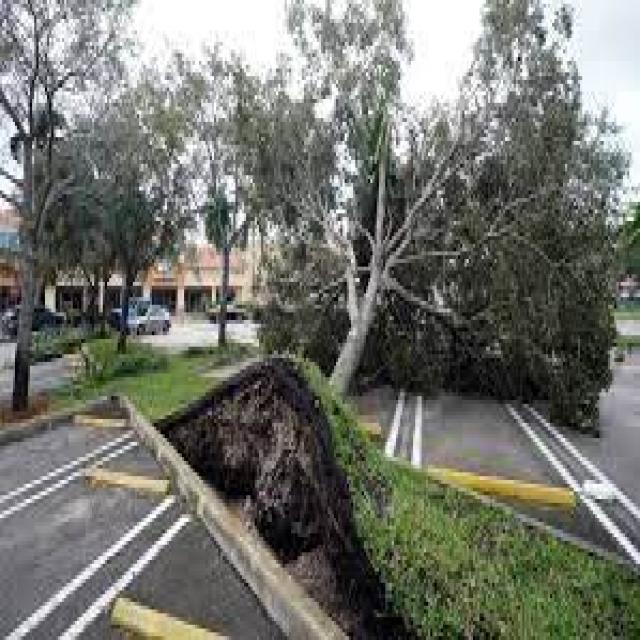Hurricane: (137, 185, 578, 640)
